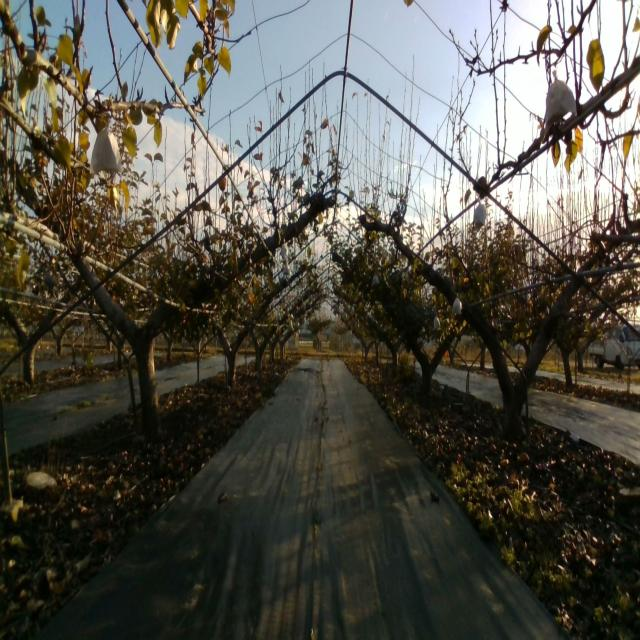pearbags: (545, 69, 578, 127), (90, 126, 122, 174), (472, 198, 487, 228), (451, 293, 463, 316)
